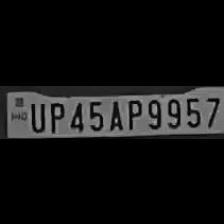4: (65, 98, 84, 130)
5: (85, 98, 105, 130), (183, 94, 201, 126)
7: (202, 92, 220, 125)
9: (144, 96, 162, 128), (164, 95, 182, 127)
A: (105, 97, 123, 130)
P: (46, 98, 64, 130), (124, 96, 142, 128)
U: (28, 99, 44, 130)
